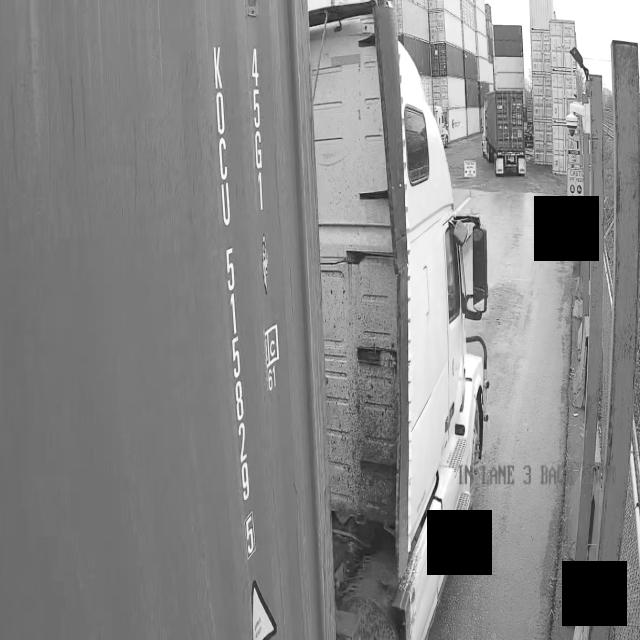container_side_no: (208, 39, 267, 585)
truck_with_container: (0, 0, 488, 640)
